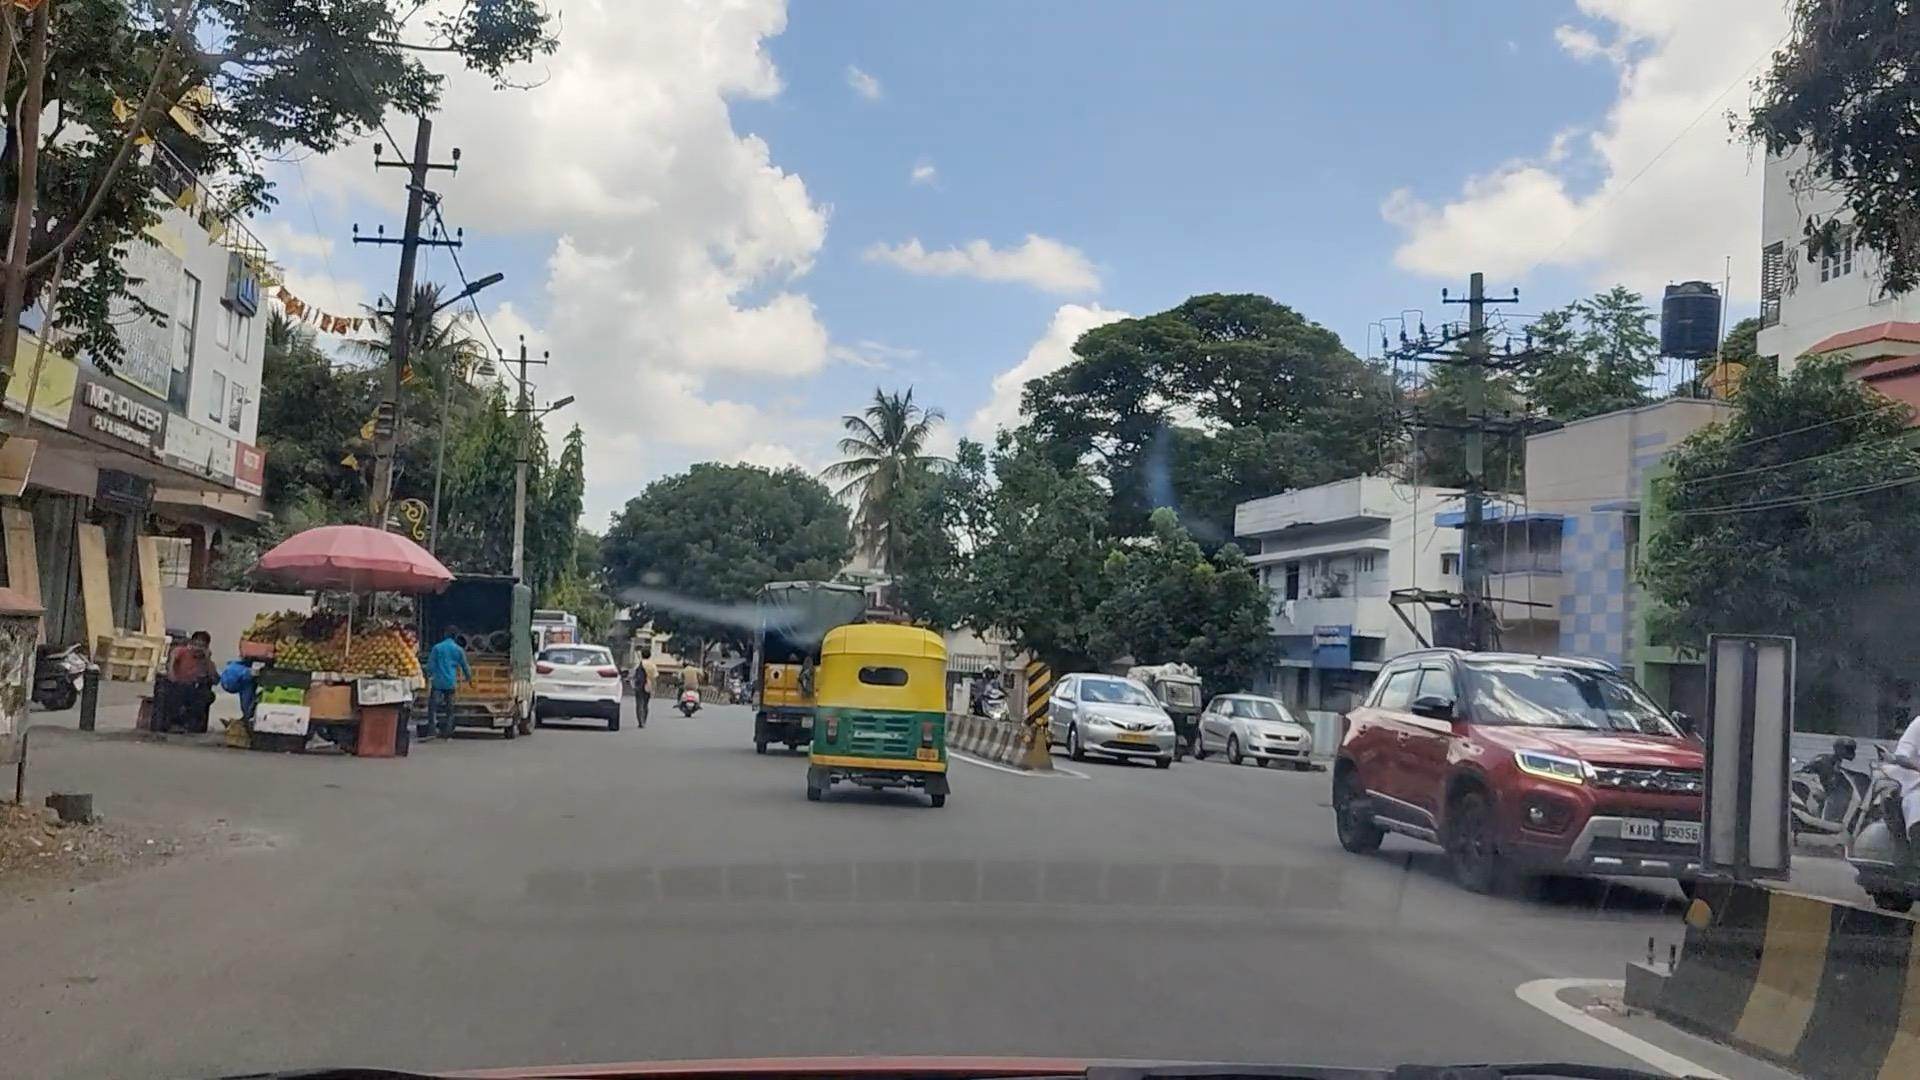LMV: (803, 624, 947, 789)
